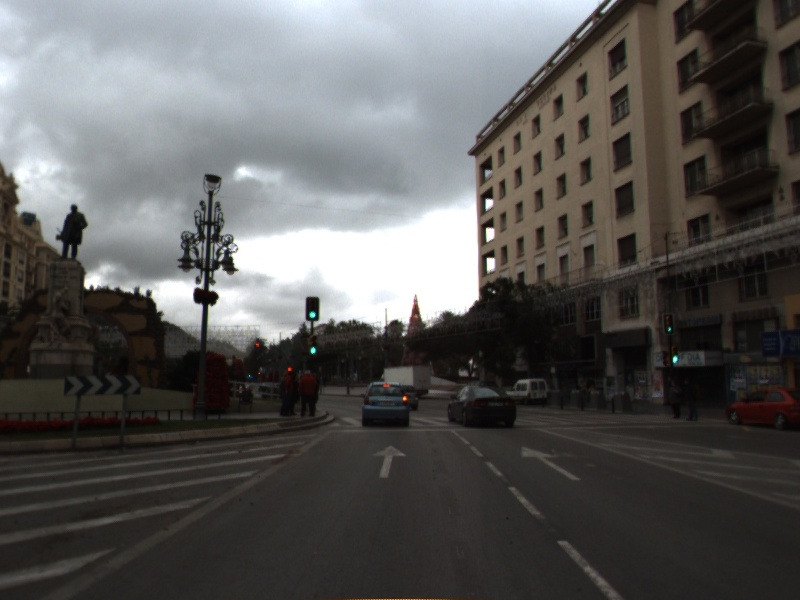STRAIGHT: (518, 444, 584, 482), (370, 443, 409, 480)
